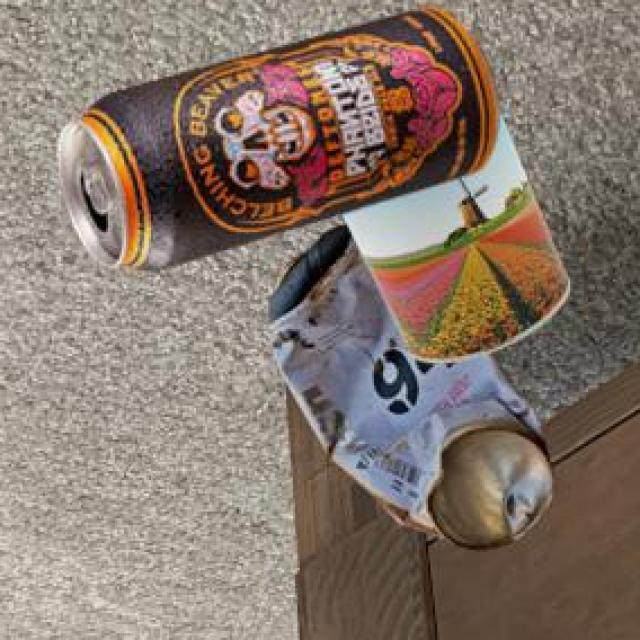logam: (60, 10, 501, 274), (272, 229, 558, 553), (346, 114, 574, 366)
